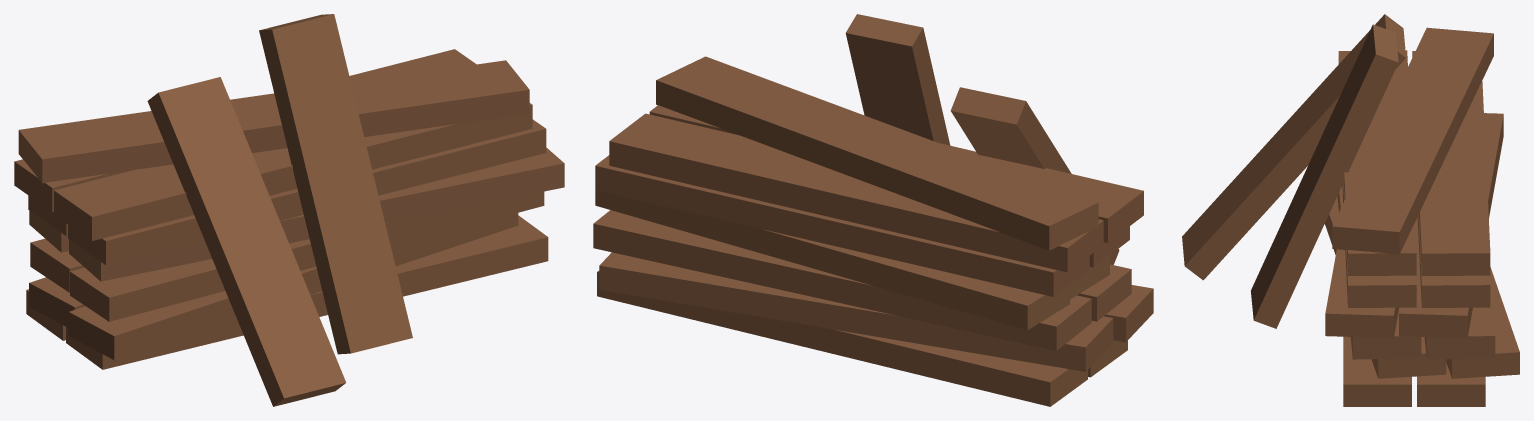
The model's file is SM_tas_de_bois.fbx.
3 renders of one model, left to right at view 1: azimuth 30°, elevation 25°; view 2: azimuth 150°, elevation 25°; view 3: azimuth 270°, elevation 25°, orthographic. The views are drawn at different scales.
Visible parts, largest first — view 1: SM_tas_de_bois; view 2: SM_tas_de_bois; view 3: SM_tas_de_bois.
Boxes of the visible parts, x1=… form: SM_tas_de_bois: x1=14, y1=14, x2=564, y2=406; SM_tas_de_bois: x1=593, y1=14, x2=1153, y2=406; SM_tas_de_bois: x1=1182, y1=14, x2=1519, y2=406.
Bounding box in the file's own units: 275 × 161 × 182.
